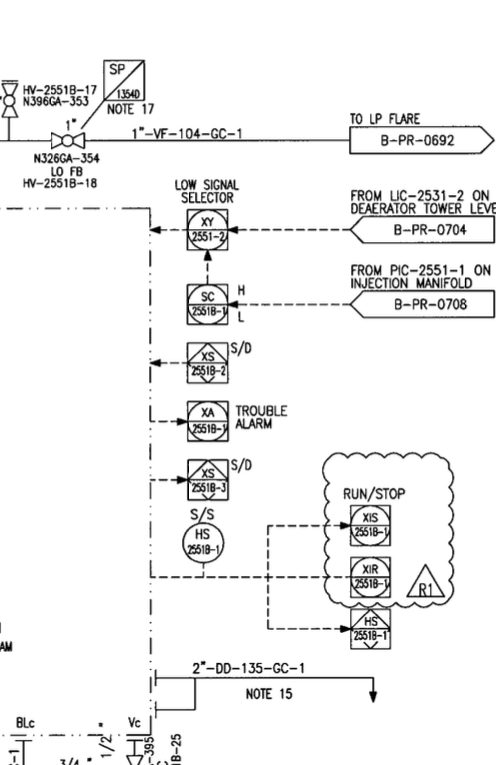Instrument: (178, 520, 229, 565)
Instrument-square: (180, 277, 232, 328), (180, 456, 232, 503), (346, 606, 395, 655), (348, 553, 397, 602), (183, 397, 232, 446), (346, 502, 395, 550), (182, 206, 232, 252), (183, 338, 230, 385)
